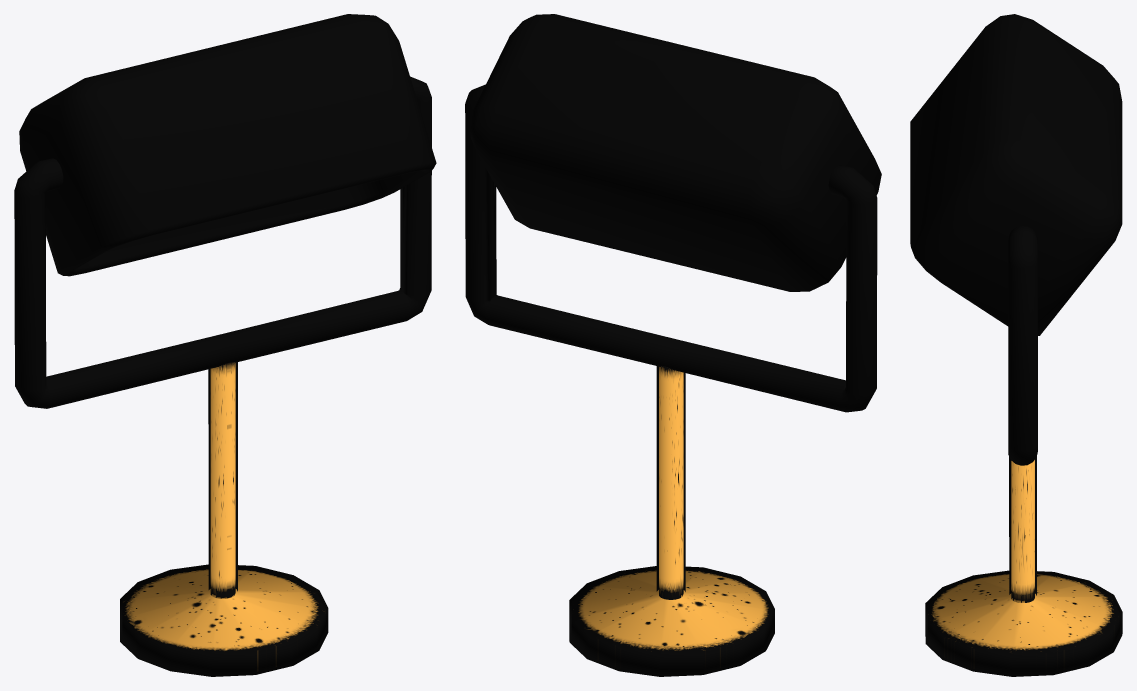
File: desk_lamp.obj
The picture shows the model from 3 angles, left to right: view 1: azimuth 30°, elevation 25°; view 2: azimuth 150°, elevation 25°; view 3: azimuth 270°, elevation 25°; orthographic projection. The views are drawn at different scales.
Parts seen in each view (by area): view 1: desk_lamp; view 2: desk_lamp; view 3: desk_lamp.
Part boxes in pixels (x1,y1,x2,y2): desk_lamp: [14, 14, 436, 676]; desk_lamp: [465, 14, 881, 676]; desk_lamp: [910, 14, 1122, 676].
Size of the model in its own units: 4.64 by 6.31 by 2.18.
